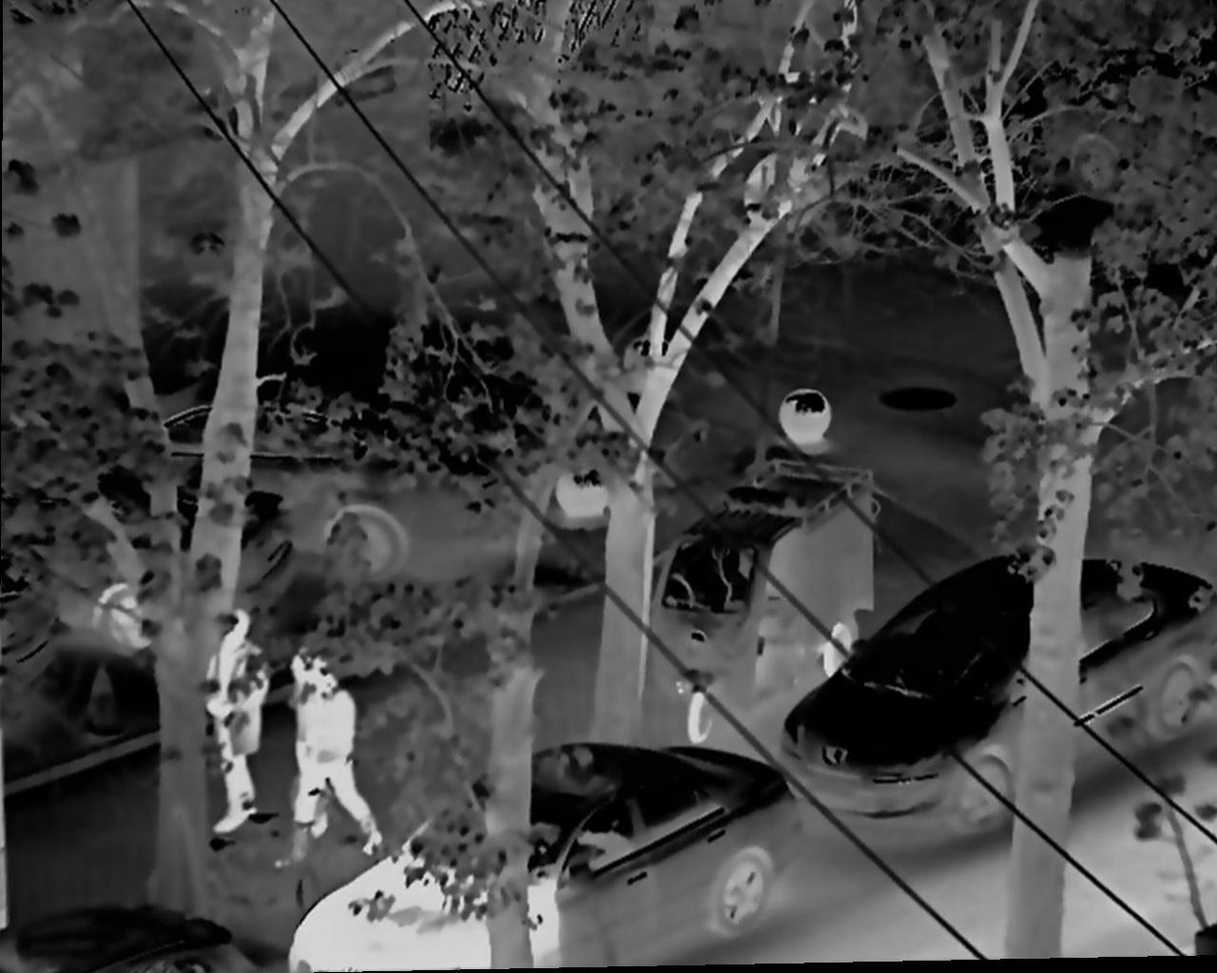person: (286, 645, 395, 878), (200, 613, 276, 849)
